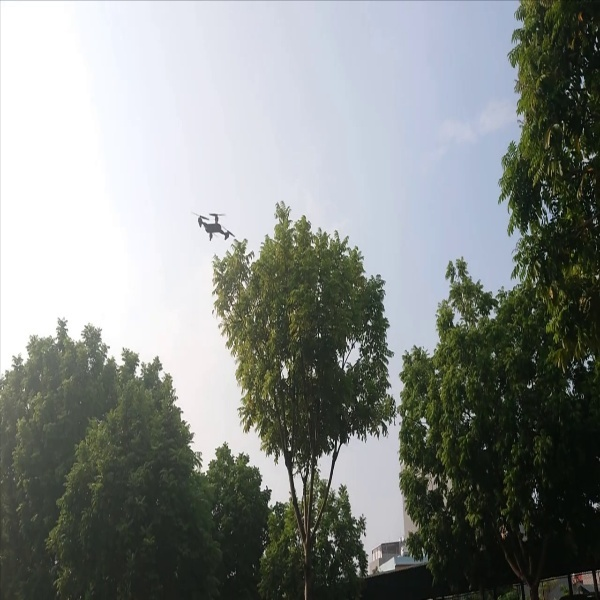drone: (189, 208, 241, 249)
